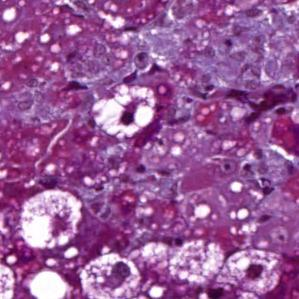ballooning: (19, 185, 86, 250), (89, 83, 159, 141), (215, 247, 284, 299), (77, 252, 144, 299)
